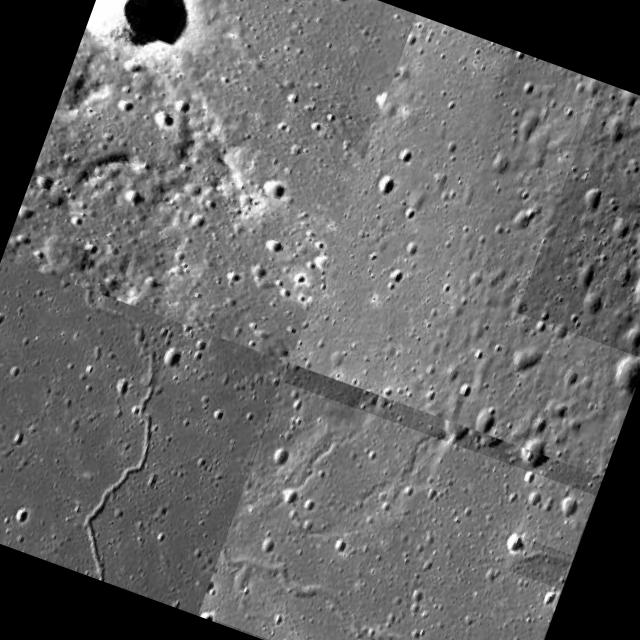rille: (198, 382, 595, 640), (0, 258, 288, 613), (517, 81, 640, 359), (510, 538, 573, 590)
